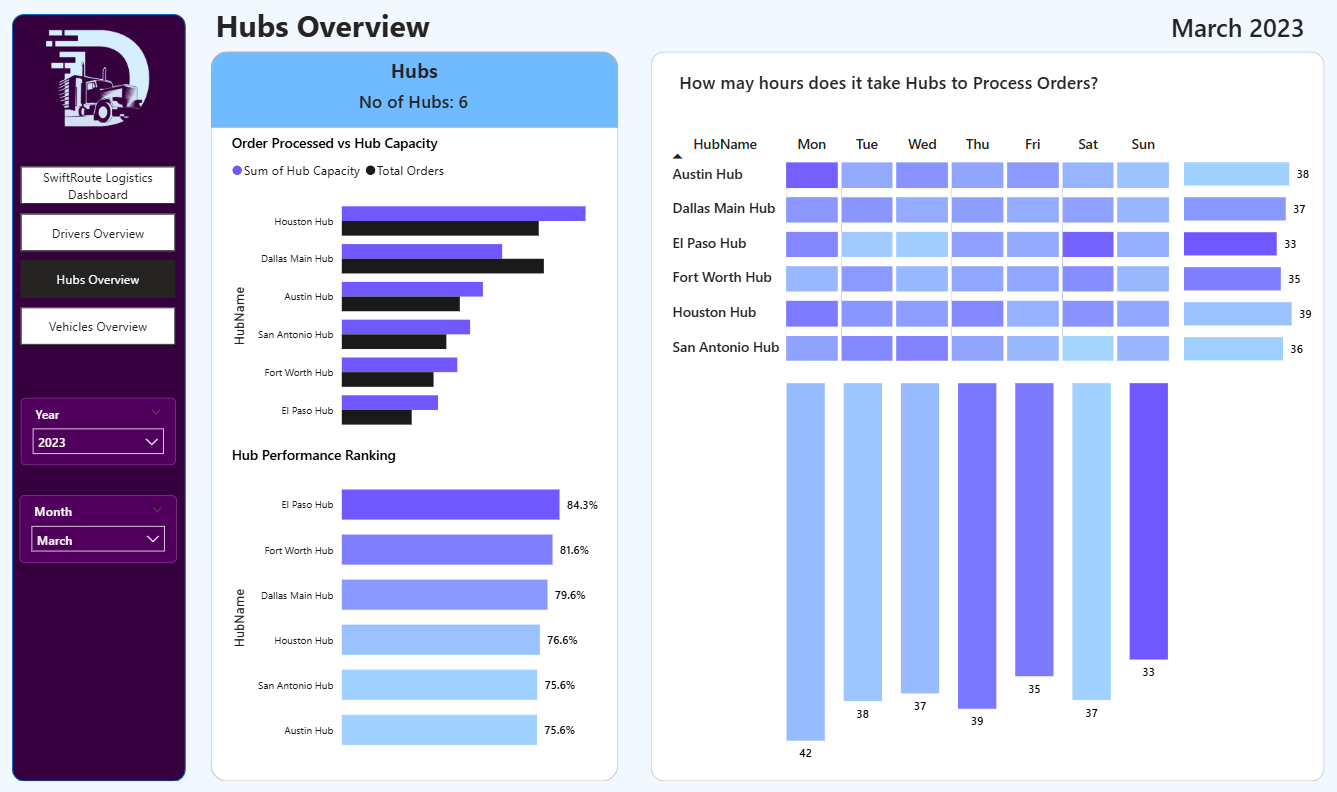

This screenshot's page, from the dashboard's own definition file:
{"tool":"powerbi","page":{"name":"Hubs Overview","canvas":[1450,850],"ordinal":2},"visuals":[{"type":"shape","box":[16,16,185.5,819.6],"z":0},{"type":"textbox","box":[222.9,1.3,249.6,58.7],"z":1000},{"type":"slicer","fields":{"Values":["Date  TAble.Month"]},"box":[24,529.9,168.2,72.1],"z":2000},{"type":"slicer","fields":{"Values":["Date  TAble.Year"]},"box":[25.4,425.8,165.5,72.1],"z":3000},{"type":"image","box":[30.7,21.4,156.2,134.8],"z":4000},{"type":"cardVisual","fields":{"Data":["Orders.Year Month Title"]},"box":[1220,6.7,210.9,44],"z":5000},{"type":"shape","box":[698.1,56.1,719.5,779.5],"z":6000},{"type":"shape","box":[228.3,56.1,435.1,779.5],"z":7000},{"type":"shape","box":[228.3,56.1,435.1,81.4],"z":8000},{"type":"textbox","box":[305.7,56.1,280.3,53.4],"z":9000},{"type":"cardVisual","fields":{"Data":["Hubs.No of Hubs"]},"box":[305.7,92.1,279,30.7],"z":10000},{"type":"clusteredBarChart","title":"Order Processed vs Hub Capacity","fields":{"Category":["Hubs.HubName"],"Y":["Sum(Hubs.Hub Capacity)","Orders.Total Orders"]},"box":[245.6,142.8,401.8,333.7],"z":11000},{"type":"barChart","title":"Hub Performance Ranking","fields":{"Category":["Hubs.HubName"],"Y":["Orders.On Time Delivery Rate"]},"box":[245.6,476.5,401.8,345.7],"z":12000},{"type":"pivotTable","fields":{"Rows":["Hubs.HubName"],"Columns":["Date  Table.Day"],"Values":["Orders.Avg Delivery Time (Hrs)"]},"box":[711.5,137.5,552.6,268.3],"z":13000},{"type":"columnChart","fields":{"Category":["Date  Table.Day"],"Y":["Orders.Avg Delivery Time (Hrs)"]},"box":[838.3,396.4,419.1,425.8],"z":14000},{"type":"barChart","fields":{"Category":["Hubs.HubName"],"Y":["Orders.Avg Delivery Time (Hrs)"]},"box":[1262.7,161.5,173.5,230.9],"z":15000},{"type":"cardVisual","fields":{"Data":["Hubs.Hub Title"]},"box":[668.7,70.7,567.3,34.7],"z":16000},{"type":"pageNavigator","box":[25.4,178.9,165.5,193.5],"z":17000}]}

Visuals, with their boxes in screenshot pixels (x1, y1, x2, y2), scaled from the page's 1450x850 canvas onto the 1337x792 screenshot:
shape: (x1=15, y1=15, x2=186, y2=779)
textbox: (x1=206, y1=1, x2=436, y2=56)
slicer - Date  TAble.Month: (x1=22, y1=494, x2=177, y2=561)
slicer - Date  TAble.Year: (x1=23, y1=397, x2=176, y2=464)
image: (x1=28, y1=20, x2=172, y2=146)
cardVisual - Orders.Year Month Title: (x1=1125, y1=6, x2=1319, y2=47)
shape: (x1=644, y1=52, x2=1307, y2=779)
shape: (x1=211, y1=52, x2=612, y2=779)
shape: (x1=211, y1=52, x2=612, y2=128)
textbox: (x1=282, y1=52, x2=540, y2=102)
cardVisual - Hubs.No of Hubs: (x1=282, y1=86, x2=539, y2=114)
"Order Processed vs Hub Capacity" clusteredBarChart: (x1=226, y1=133, x2=597, y2=444)
"Hub Performance Ranking" barChart: (x1=226, y1=444, x2=597, y2=766)
pivotTable - Hubs.HubName x Date  Table.Day: (x1=656, y1=128, x2=1166, y2=378)
columnChart - Date  Table.Day x Orders.Avg Delivery Time (Hrs): (x1=773, y1=369, x2=1159, y2=766)
barChart - Hubs.HubName x Orders.Avg Delivery Time (Hrs): (x1=1164, y1=150, x2=1324, y2=366)
cardVisual - Hubs.Hub Title: (x1=617, y1=66, x2=1140, y2=98)
pageNavigator: (x1=23, y1=167, x2=176, y2=347)
